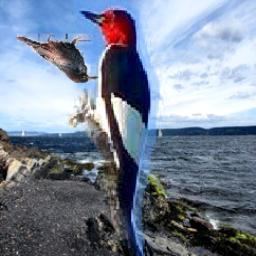Crow: (18, 34, 99, 83)
Woodpecker: (70, 0, 168, 256)
